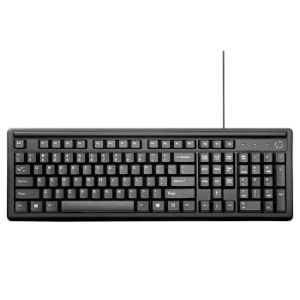keyboard: (6, 124, 295, 225)
